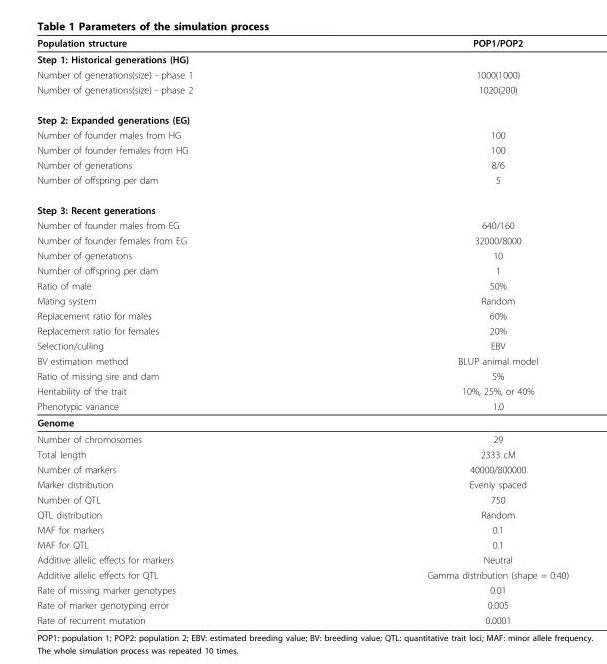table: (36, 36, 567, 625)
table column: (36, 36, 309, 625), (309, 36, 567, 625)
table column header: (36, 36, 567, 50)
table projected row header: (36, 104, 567, 127), (36, 194, 567, 217), (36, 413, 567, 430), (36, 50, 567, 66)
table row: (36, 81, 567, 104), (36, 104, 567, 127), (36, 194, 567, 217), (36, 172, 567, 194), (36, 413, 567, 430), (36, 50, 567, 66), (36, 337, 567, 353), (36, 430, 567, 446), (36, 551, 567, 567), (36, 66, 567, 81), (36, 127, 567, 142), (36, 142, 567, 157), (36, 157, 567, 172), (36, 217, 567, 232), (36, 232, 567, 247), (36, 247, 567, 262), (36, 262, 567, 277), (36, 277, 567, 292), (36, 292, 567, 307), (36, 307, 567, 322), (36, 322, 567, 337), (36, 353, 567, 368), (36, 368, 567, 383), (36, 383, 567, 398), (36, 398, 567, 413), (36, 446, 567, 461), (36, 461, 567, 476), (36, 476, 567, 491), (36, 491, 567, 506), (36, 506, 567, 521), (36, 521, 567, 536), (36, 536, 567, 551), (36, 567, 567, 582), (36, 582, 567, 597), (36, 597, 567, 612), (36, 36, 567, 50), (36, 612, 567, 625)
